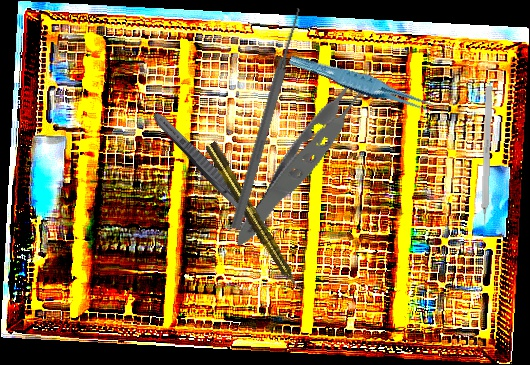Dressing Forceps: (148, 108, 275, 238)
Handpiece: (203, 140, 305, 295)
Hook Surgical: (480, 85, 493, 238)
Pusher: (228, 6, 307, 231)
Tissue Forceps: (196, 65, 428, 248), (287, 44, 441, 126)
